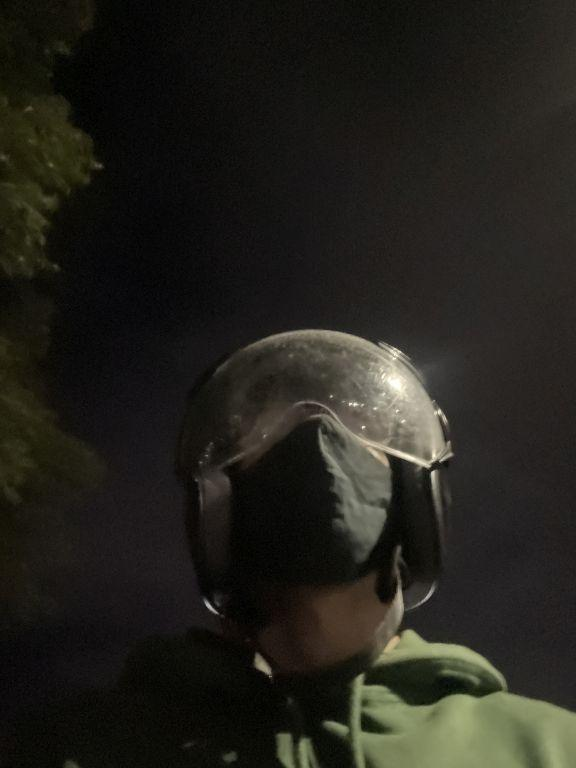helmet: (157, 319, 465, 633)
